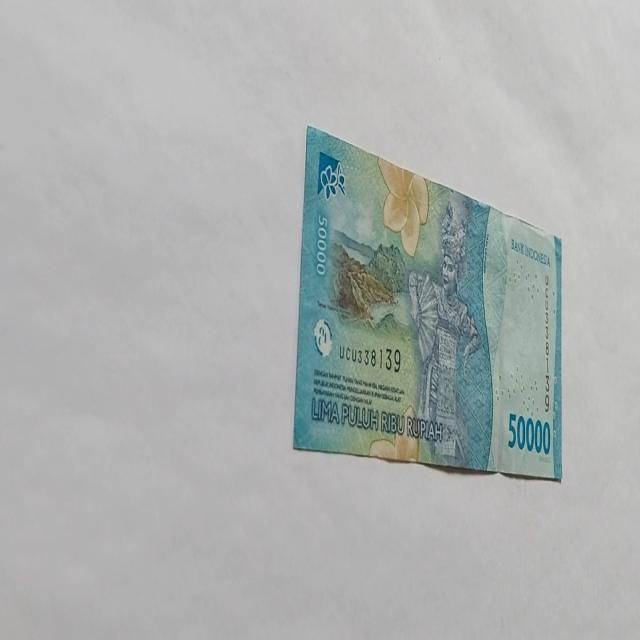lima puluh ribu rupiah: (292, 124, 564, 482)
